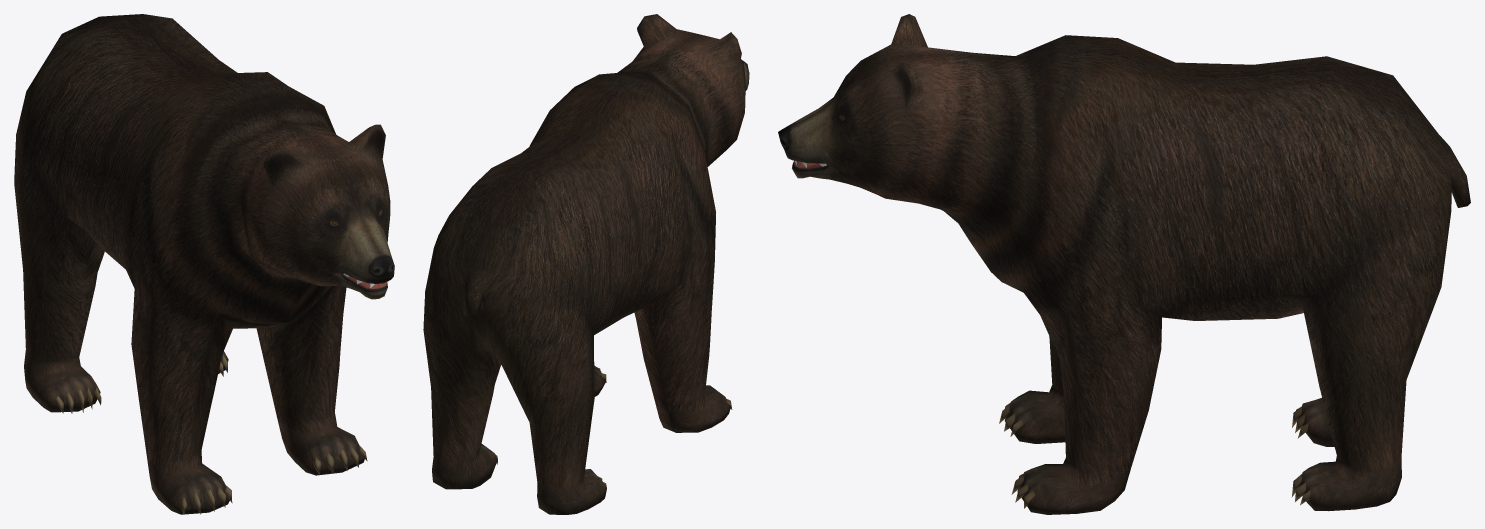
Rendered from proba.FBX.
The picture shows the model from 3 angles, left to right: view 1: azimuth 30°, elevation 25°; view 2: azimuth 150°, elevation 25°; view 3: azimuth 270°, elevation 25°; orthographic projection. The views are drawn at different scales.
Parts seen in each view (by area): view 1: bear001; view 2: bear001; view 3: bear001.
Boxes of the visible parts, x1,y1,x2,y2 form: bear001: (14,14,394,514); bear001: (423,14,749,514); bear001: (778,14,1470,514).
Bounding box in the file's own units: 10.24 × 28.84 × 19.71.
